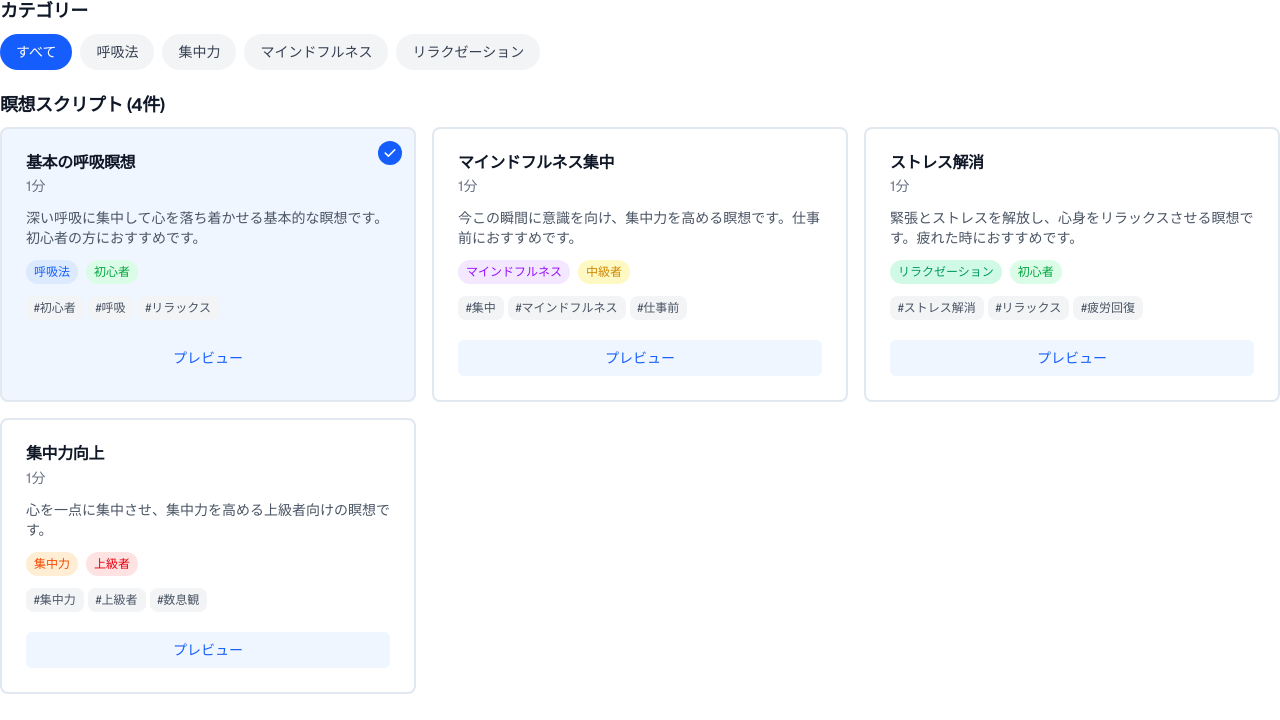
ScriptSelector › shows preview modal when preview button is clicked
What coordinates should you click on to do the following:
click the button "プレビュー" below "深い呼吸に集中して心を落ち着かせる基本的な瞑想です。初心者の方におすすめです。"
I would click on:
 (208, 358)
Its box is [26,340,390,376].
(page scrolled)
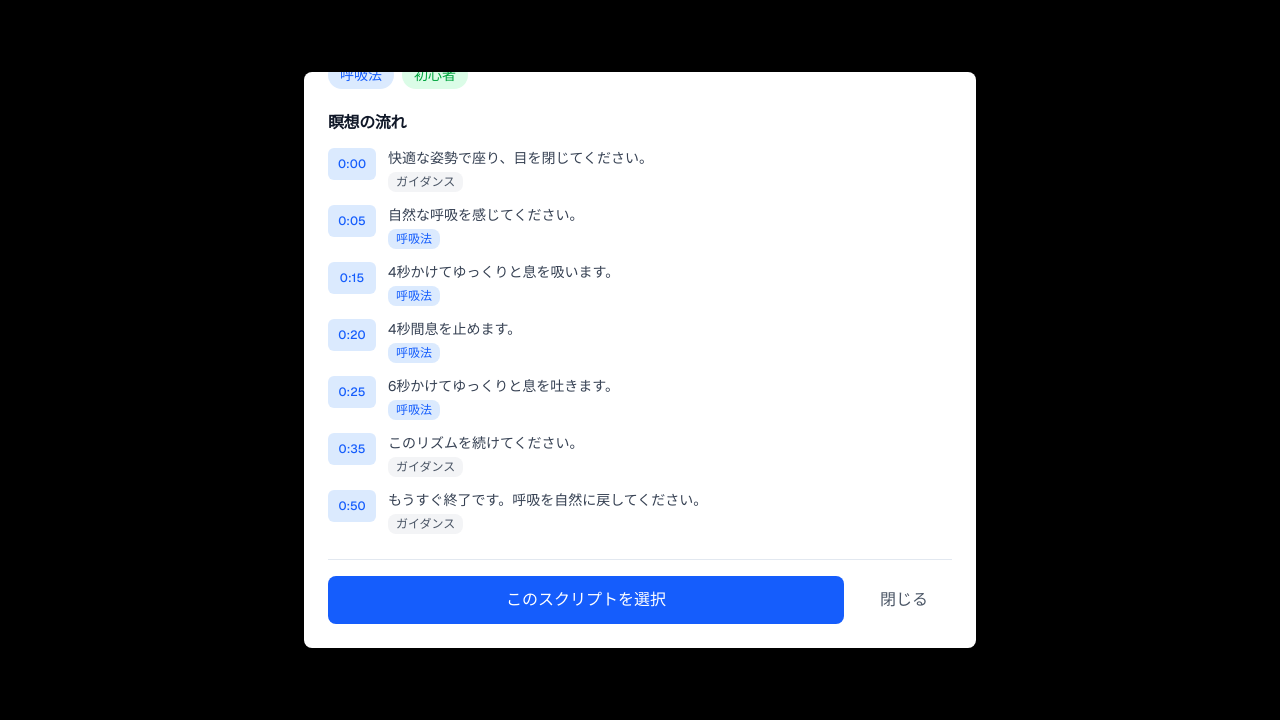
Expected: the heading "瞑想の流れ" is shown, [328,112,406,133]
Expected: the button "このスクリプトを選択" is shown, [328,576,844,624]
